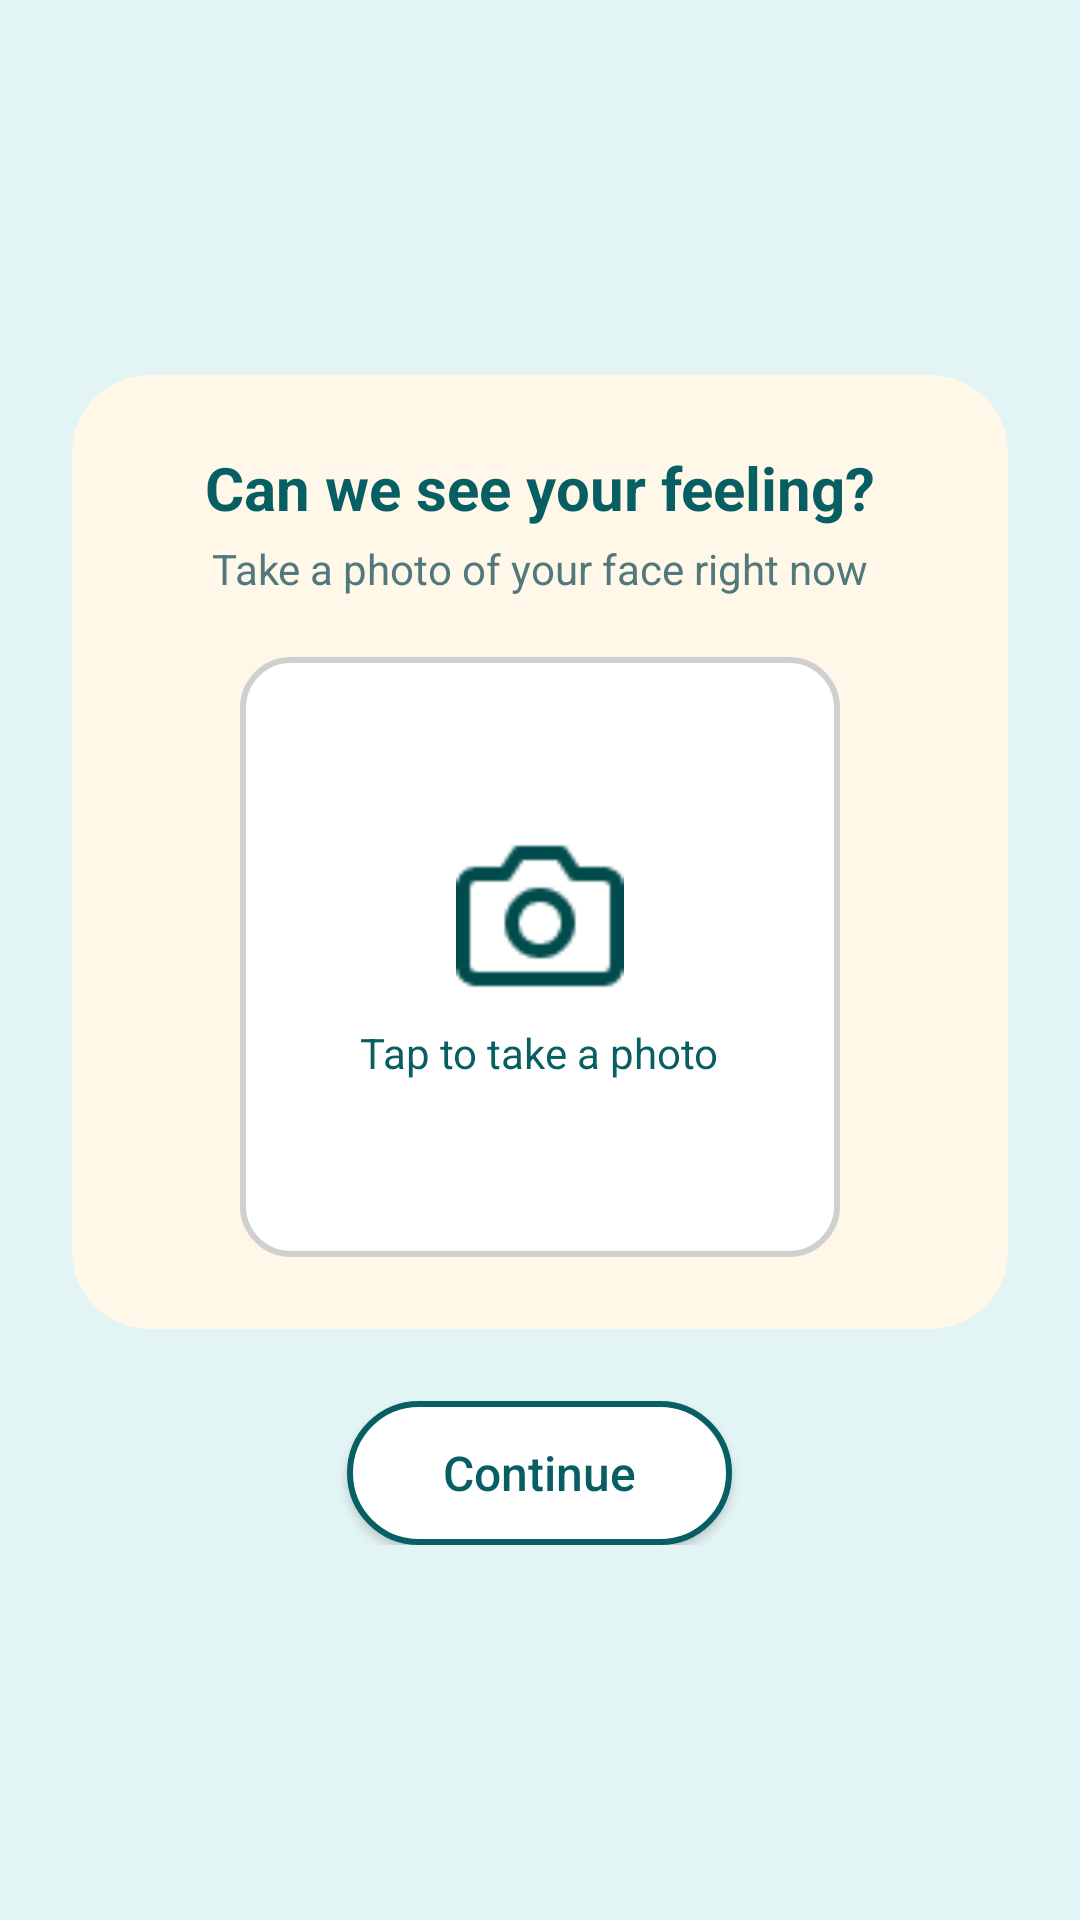

Point at icon controls on the screen. Image size 1080*1920, points as (x=x, y=y).
camera: (x=540, y=916)
